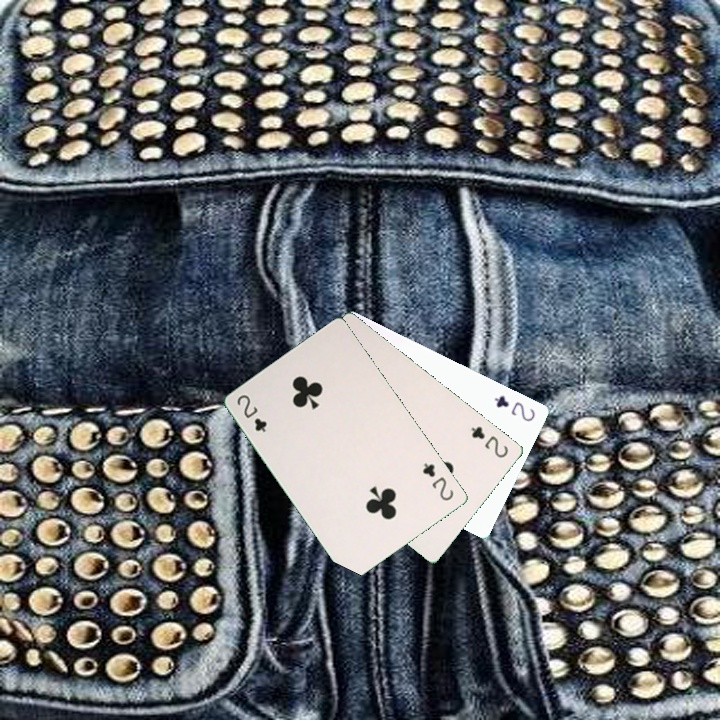2c: (467, 422, 511, 461), (418, 459, 456, 504), (233, 390, 269, 435), (490, 391, 538, 424)
